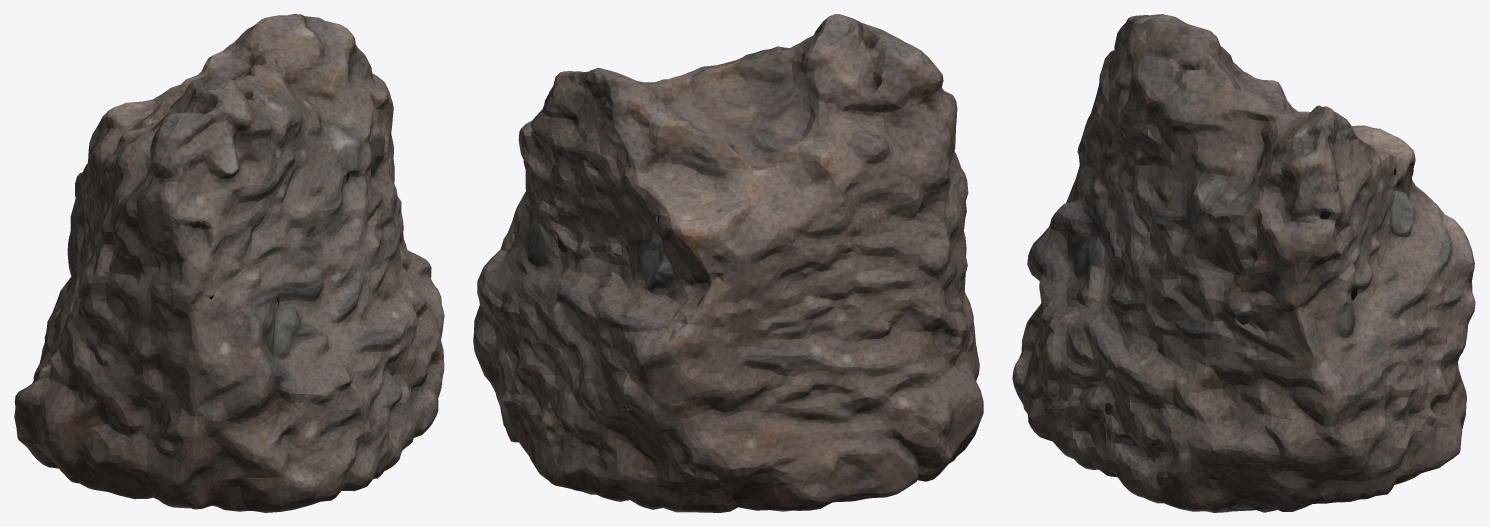
3 renders of one model, left to right at view 1: azimuth 30°, elevation 25°; view 2: azimuth 150°, elevation 25°; view 3: azimuth 270°, elevation 25°, orthographic. The views are drawn at different scales.
Visible parts, largest first — view 1: world; view 2: world; view 3: world.
Part boxes in pixels (x1,y1,x2,y2): world: (14, 14, 444, 512); world: (473, 14, 983, 512); world: (1012, 14, 1475, 512).
Bounding box in the file's own units: 1.8 × 1.56 × 1.69.
1 material, 1 textured.
